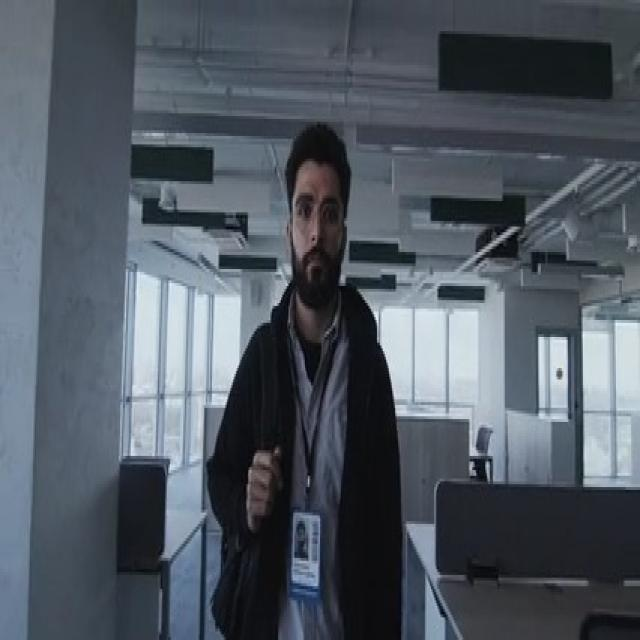Jacket_Wearer: (200, 254, 402, 640)
Person: (202, 116, 405, 640)
